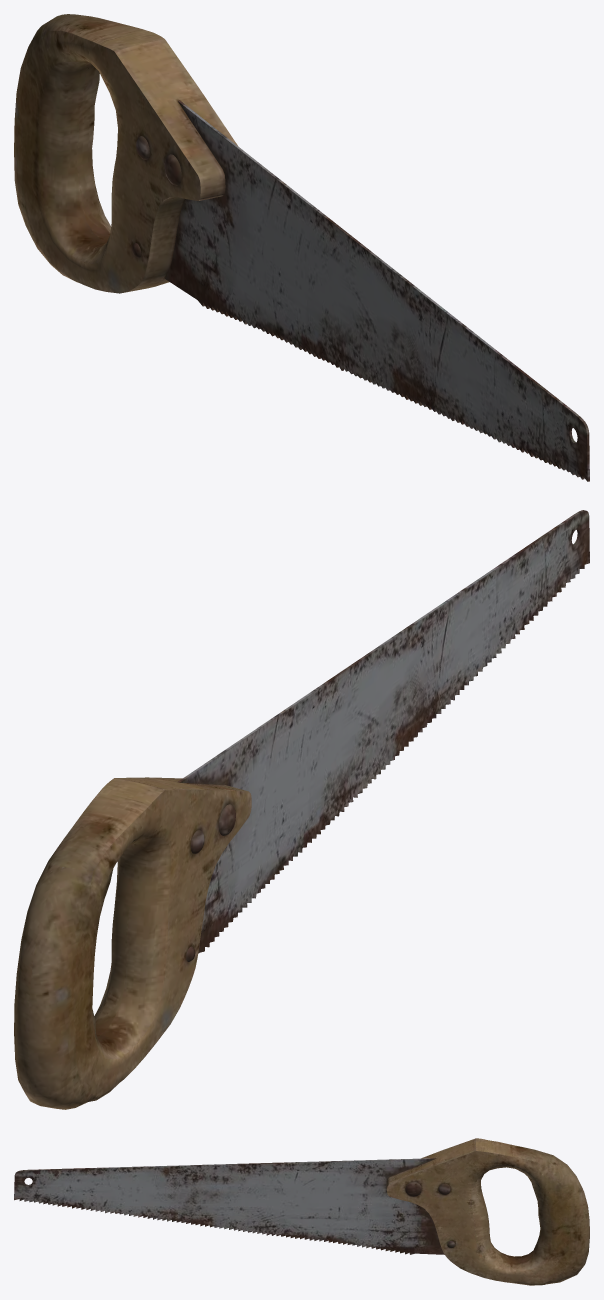
The model's file is handsaw_wood.glb.
3 renders of one model, top to bottom at view 1: azimuth 30°, elevation 25°; view 2: azimuth 150°, elevation 25°; view 3: azimuth 270°, elevation 25°, orthographic. The views are drawn at different scales.
Visible parts, largest first — view 1: handsaw_wood; view 2: handsaw_wood; view 3: handsaw_wood.
Part boxes in pixels (x1,y1,x2,y2): handsaw_wood: [14, 14, 589, 481]; handsaw_wood: [14, 510, 589, 1109]; handsaw_wood: [14, 1138, 589, 1285].
Bounding box in the file's own units: 0.0408 × 0.1665 × 0.633.
1 material, 1 textured.
